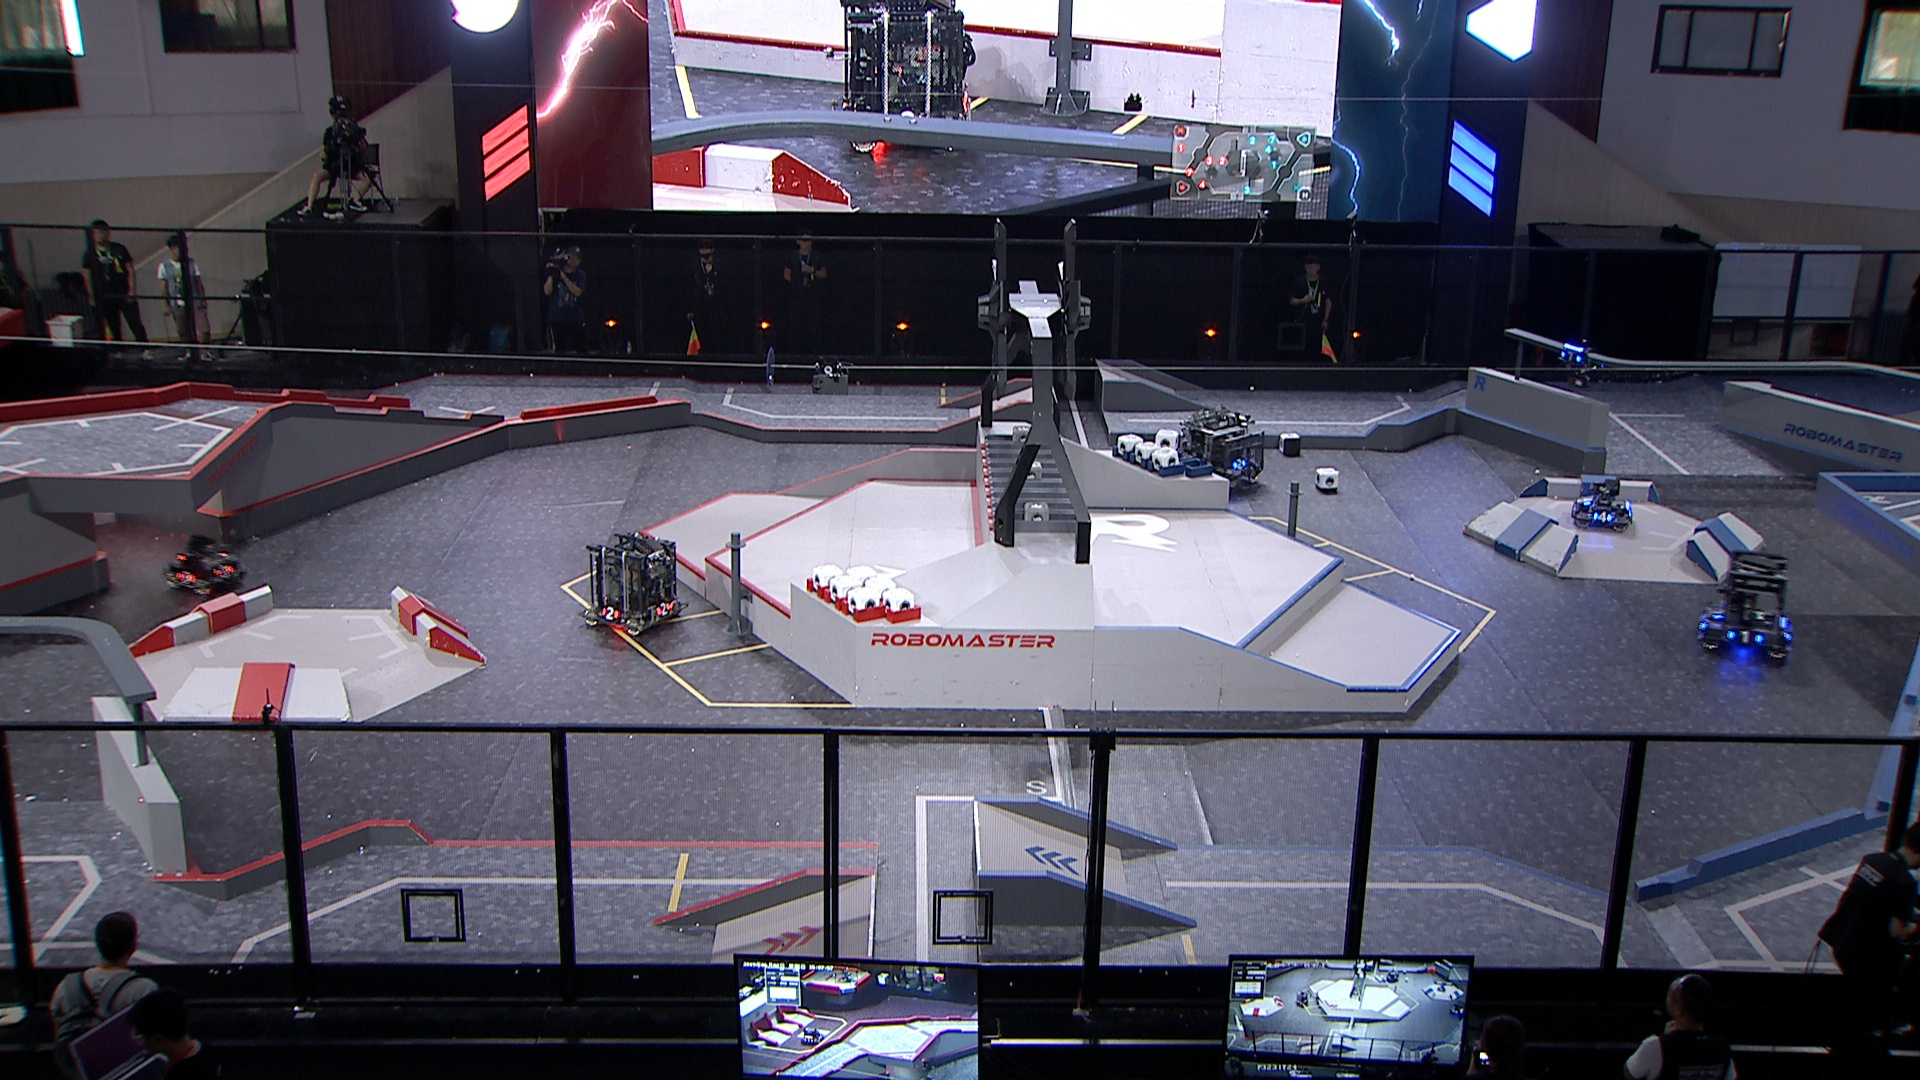armor: (1724, 628, 1764, 645), (212, 562, 235, 583), (173, 568, 196, 588), (1557, 348, 1582, 365), (600, 604, 621, 622), (1590, 509, 1614, 524), (655, 600, 674, 617), (1230, 458, 1247, 473)
car: (576, 527, 686, 636), (1693, 551, 1793, 662), (1174, 406, 1269, 493), (161, 537, 245, 597), (1569, 477, 1636, 533)
ignore: (823, 0, 978, 154)
watcher: (1556, 338, 1607, 389)
